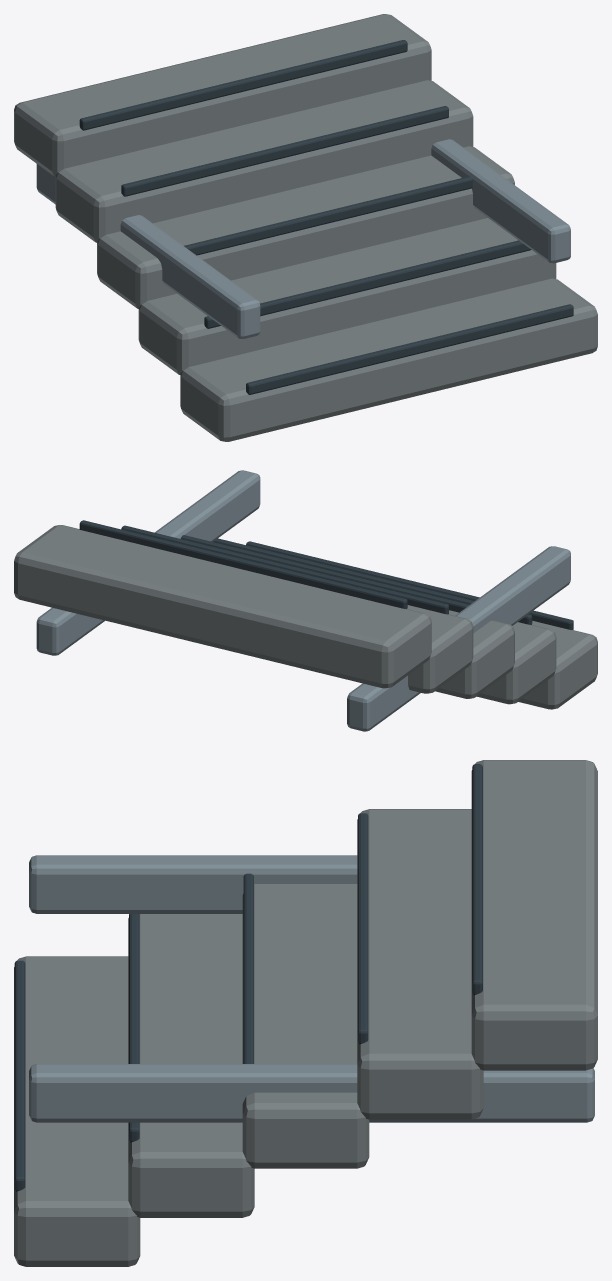
Rendered from Stair-Module.glb.
3 renders of one model, top to bottom at view 1: azimuth 30°, elevation 25°; view 2: azimuth 150°, elevation 25°; view 3: azimuth 270°, elevation 25°, orthographic. The views are drawn at different scales.
Parts seen in each view (by area): view 1: Stair_Step_0, Stair_Step_4, Stair_Step_3, Stair_Step_1, Stair_Step_2, Stair_SideTrim_-0.82, Stair_SideTrim_0.82, Stair_RiserMetal_4, Stair_RiserMetal_3, Stair_RiserMetal_0, Stair_RiserMetal_2, Stair_RiserMetal_1; view 2: Stair_Step_4, Stair_SideTrim_-0.82, Stair_SideTrim_0.82, Stair_RiserMetal_4, Stair_Step_0, Stair_Step_3, Stair_Step_1, Stair_Step_2, Stair_RiserMetal_3, Stair_RiserMetal_0, Stair_RiserMetal_2, Stair_RiserMetal_1; view 3: Stair_Step_4, Stair_Step_3, Stair_Step_2, Stair_Step_0, Stair_Step_1, Stair_SideTrim_0.82, Stair_SideTrim_-0.82, Stair_RiserMetal_0, Stair_RiserMetal_3, Stair_RiserMetal_4, Stair_RiserMetal_2, Stair_RiserMetal_1.
Part boxes in pixels (left/top/right/bottom): Stair_Step_0: left=180, top=278, right=597, bottom=441; Stair_Step_4: left=14, top=14, right=431, bottom=176; Stair_Step_3: left=55, top=80, right=473, bottom=242; Stair_Step_1: left=138, top=218, right=556, bottom=374; Stair_Step_2: left=97, top=146, right=514, bottom=308; Stair_SideTrim_-0.82: left=36, top=164, right=260, bottom=338; Stair_SideTrim_0.82: left=431, top=139, right=570, bottom=263; Stair_RiserMetal_4: left=79, top=40, right=407, bottom=130; Stair_RiserMetal_3: left=121, top=106, right=448, bottom=196; Stair_RiserMetal_0: left=246, top=304, right=573, bottom=394; Stair_RiserMetal_2: left=184, top=176, right=472, bottom=255; Stair_RiserMetal_1: left=204, top=240, right=531, bottom=328; Stair_Step_4: left=14, top=525, right=431, bottom=688; Stair_SideTrim_-0.82: left=347, top=546, right=570, bottom=731; Stair_SideTrim_0.82: left=36, top=470, right=260, bottom=655; Stair_RiserMetal_4: left=79, top=520, right=407, bottom=608; Stair_Step_0: left=518, top=621, right=597, bottom=709; Stair_Step_3: left=407, top=605, right=473, bottom=693; Stair_Step_1: left=477, top=622, right=556, bottom=704; Stair_Step_2: left=435, top=610, right=514, bottom=698; Stair_RiserMetal_3: left=121, top=525, right=448, bottom=614; Stair_RiserMetal_0: left=246, top=541, right=573, bottom=629; Stair_RiserMetal_2: left=181, top=535, right=469, bottom=612; Stair_RiserMetal_1: left=213, top=538, right=532, bottom=624; Stair_Step_4: left=471, top=760, right=597, bottom=1070; Stair_Step_3: left=357, top=809, right=483, bottom=1119; Stair_Step_2: left=242, top=884, right=369, bottom=1168; Stair_Step_0: left=14, top=956, right=140, bottom=1266; Stair_Step_1: left=128, top=914, right=254, bottom=1217; Stair_SideTrim_0.82: left=29, top=1064, right=594, bottom=1122; Stair_SideTrim_-0.82: left=29, top=855, right=357, bottom=913; Stair_RiserMetal_0: left=14, top=960, right=25, bottom=1191; Stair_RiserMetal_3: left=358, top=813, right=368, bottom=1044; Stair_RiserMetal_4: left=472, top=764, right=482, bottom=995; Stair_RiserMetal_2: left=243, top=873, right=253, bottom=1063; Stair_RiserMetal_1: left=129, top=914, right=139, bottom=1142.
Size of the model in its own units: 2 by 0.9975 by 1.94.
